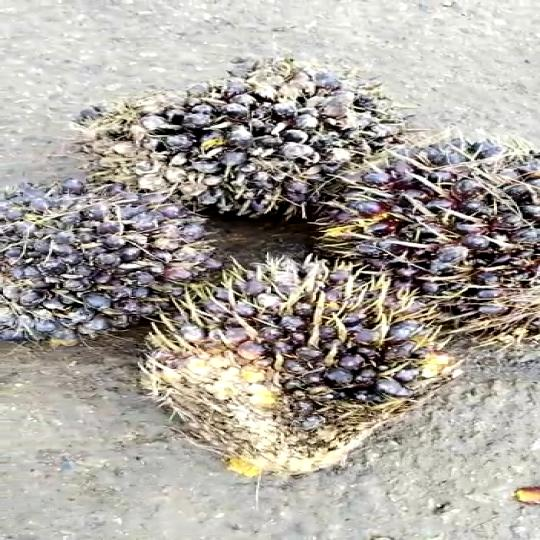mentah: (154, 244, 424, 480), (84, 56, 379, 215), (350, 127, 540, 345), (4, 182, 193, 354)
